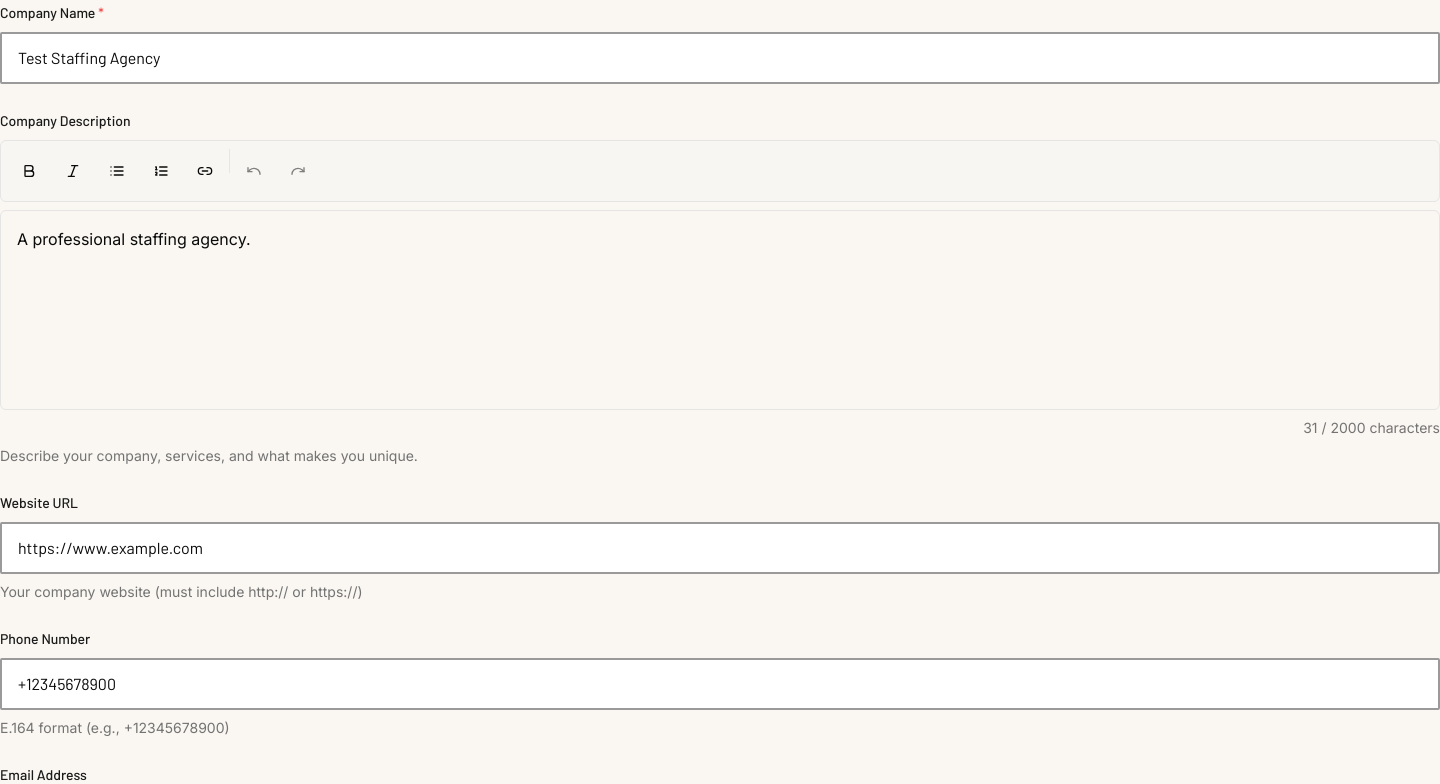
Test case: ProfileEditForm › Admin Approval Warning › should show warning when company name changes
The width and height of the screenshot is (1440, 784).
Step 1. Replace the text in the field showing "Test Staffing Agency" with "New Company Name" → (720, 58), box [0,32,1439,84]
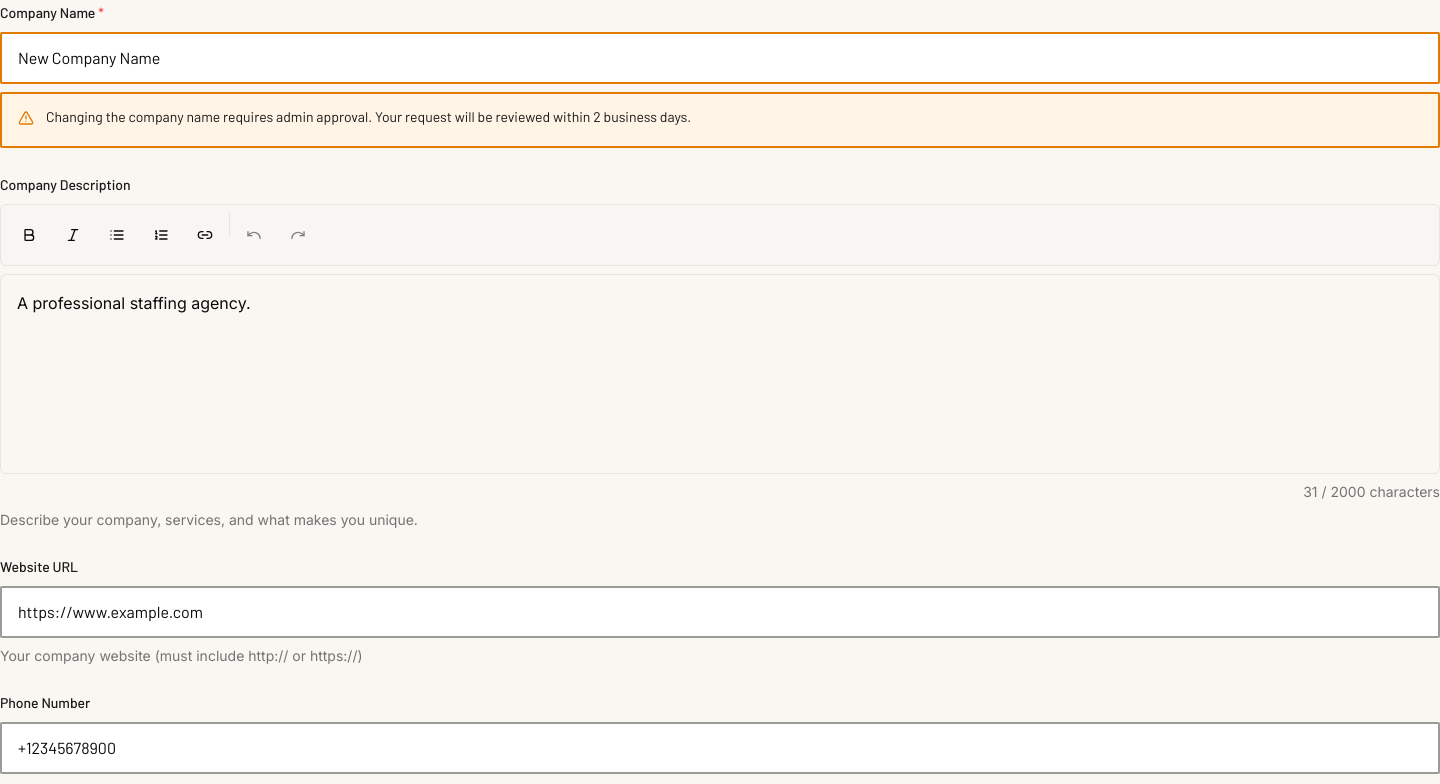
Check: the text "Changing the company name requires admin approval" is shown, box [46,108,691,125]
